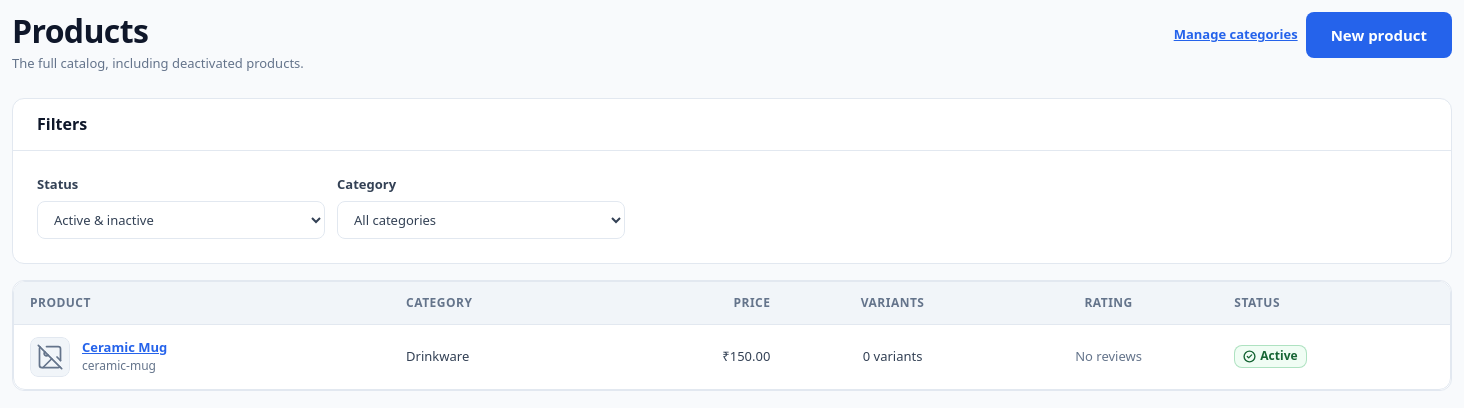
it: AdminProductsPage › has a status filter that adds ?status= and refetches
Check: the link "Ceramic Mug" is shown, box [82,338,167,357]
Select "Inactive only" in the dropdown labelled "Status" at (181,220), box [37,201,325,239]
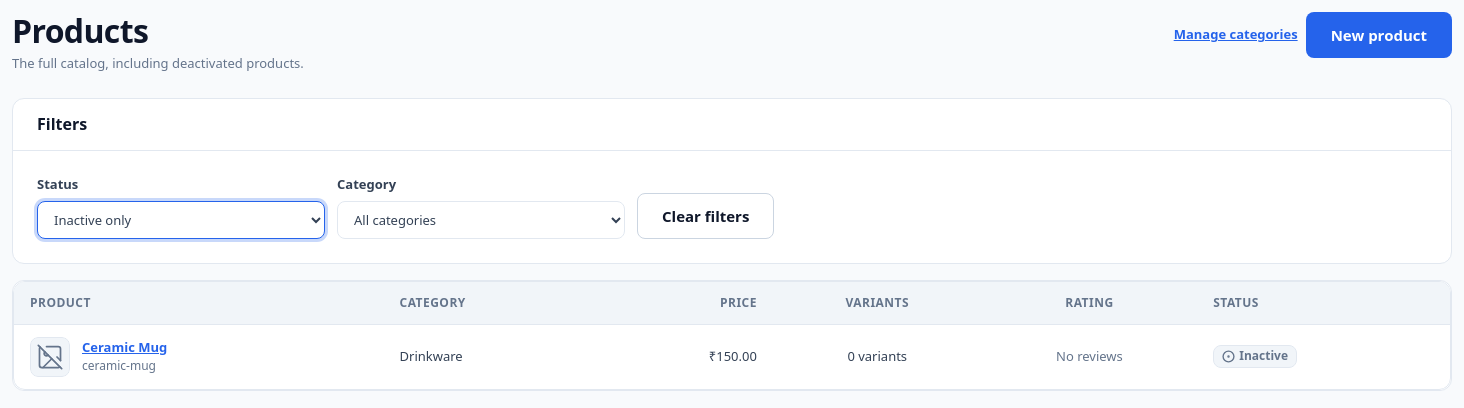
Check: the text "Inactive" is shown, box [1239,348,1288,365]
